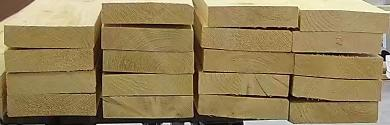Wood-Plank: (102, 26, 194, 52), (201, 27, 292, 52), (103, 50, 194, 74), (199, 96, 290, 120), (204, 50, 294, 74), (296, 54, 384, 78), (6, 72, 96, 95), (4, 25, 94, 48), (5, 49, 94, 72), (301, 9, 390, 32), (207, 6, 300, 28), (292, 78, 380, 101), (103, 74, 193, 96), (293, 32, 383, 54), (7, 94, 96, 116), (199, 74, 288, 96), (102, 3, 194, 24), (290, 102, 378, 123), (103, 98, 194, 118)
